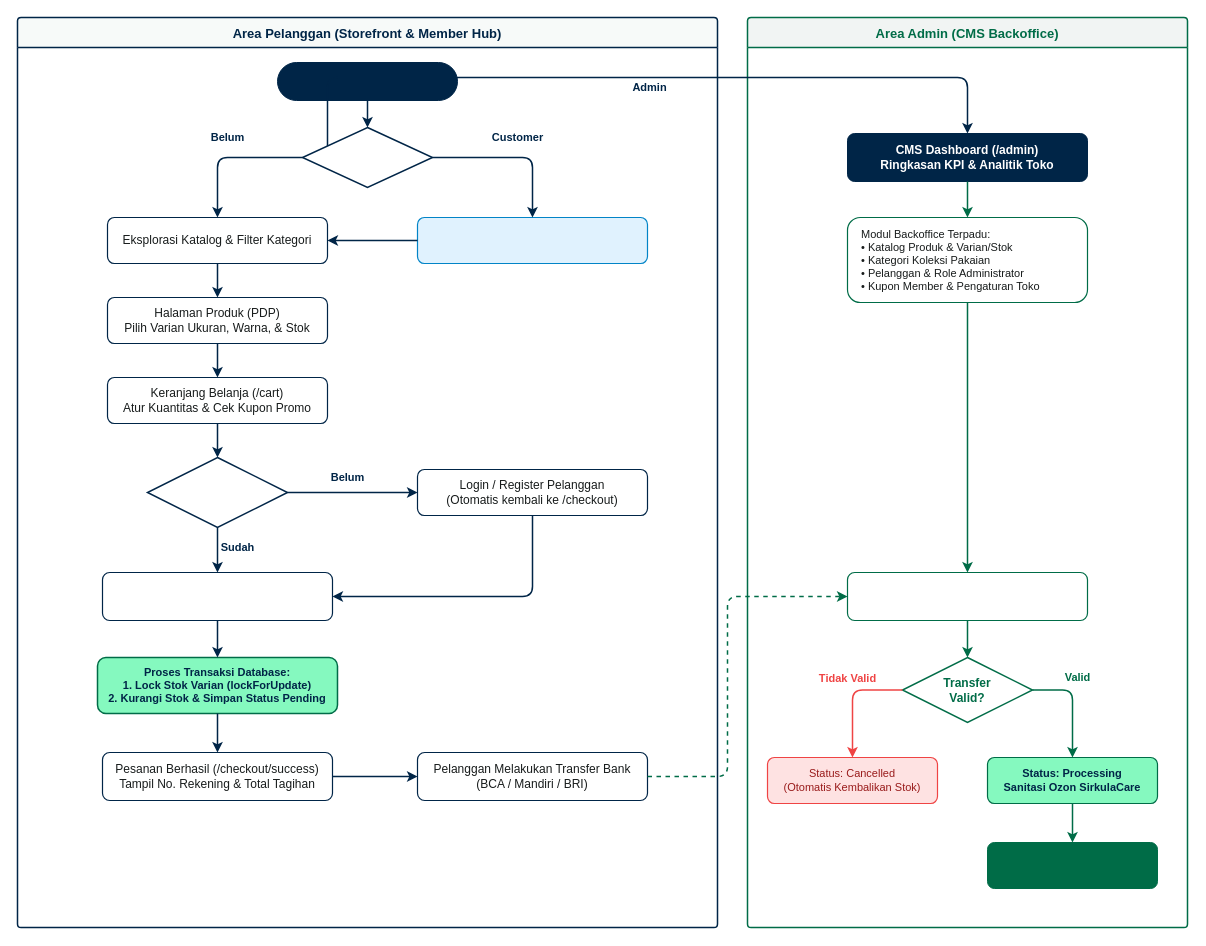
Image size: 1206x946. Some labels were removed from this diagram. The shapes that lost their labels are listed below. From the top down, each one's centre as x and y in pixels, then its label:
point (367, 81): Mulai: Kunjungi Website
point (367, 157): Sudah Login?
point (532, 240): Hub Keanggotaan (/member) Barcode Member & Riwayat Pesanan
point (217, 492): Sudah Login untuk Checkout?
point (217, 596): Halaman Checkout (/checkout) Input Data Penerima & Pilih Bank
point (967, 596): Kelola Pesanan & Verifikasi Cek Mutasi Transfer Bank Pelanggan
point (1072, 865): Pengiriman Kurir & Selesai Status: Completed
